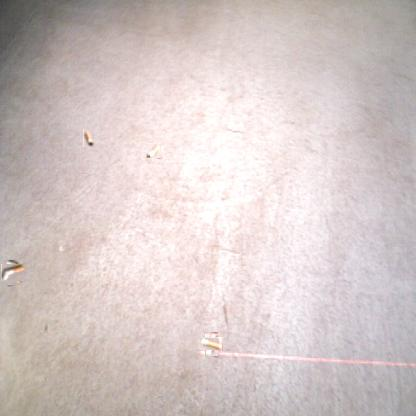dirty: (3, 262, 25, 283), (202, 335, 221, 353), (146, 143, 161, 159), (83, 129, 94, 147)
mark: (221, 302, 229, 326), (42, 321, 48, 333)
